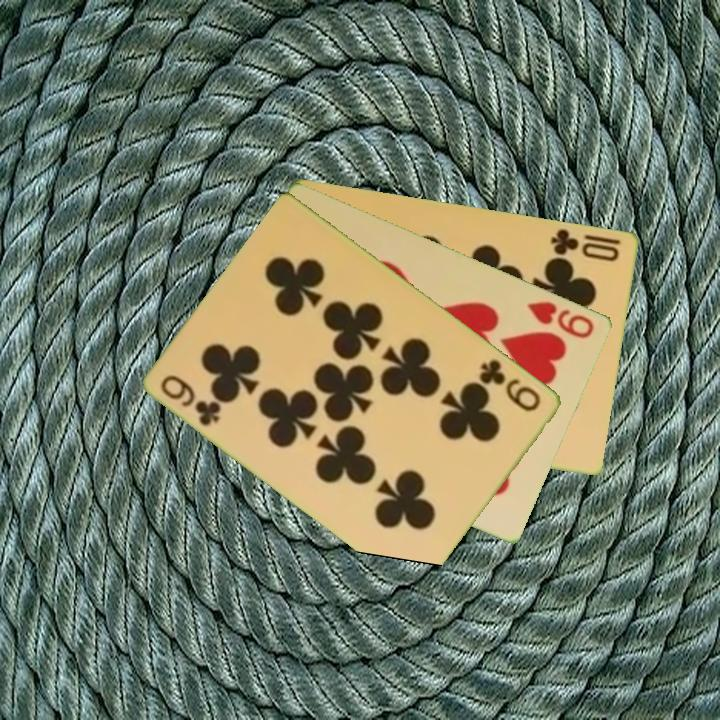10c: (547, 224, 624, 264)
9c: (476, 355, 545, 415), (157, 371, 225, 429)
9h: (524, 297, 598, 342)
